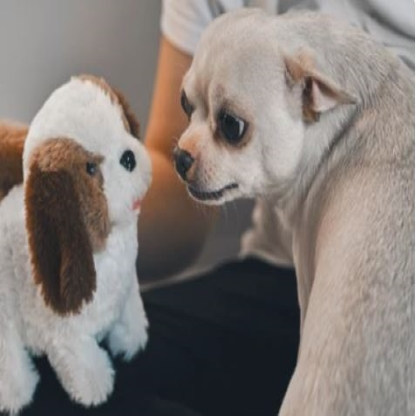chihuahua: (169, 5, 415, 416)
